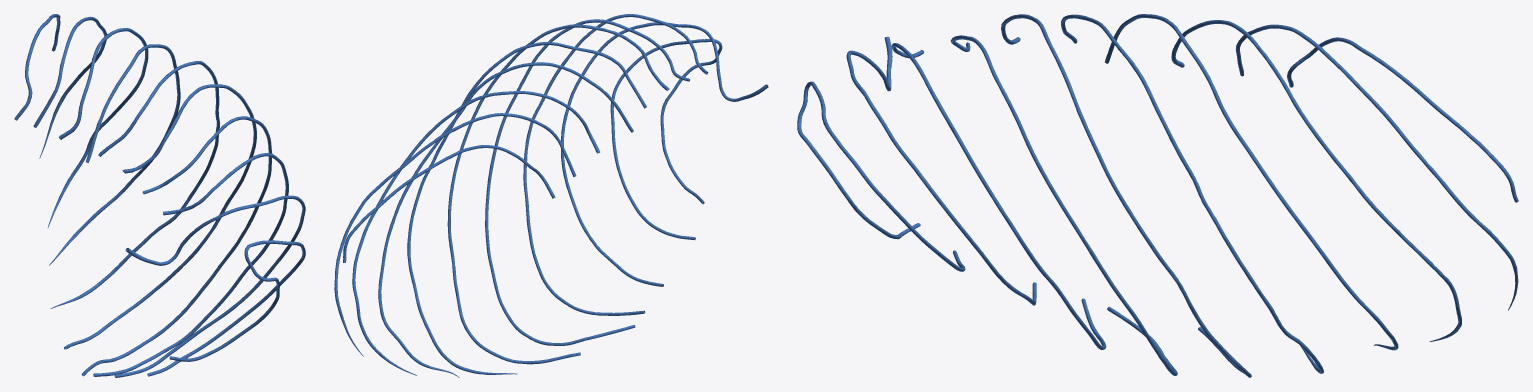
3 views of the same model, side by side, from view 1: azimuth 30°, elevation 25°; view 2: azimuth 150°, elevation 25°; view 3: azimuth 270°, elevation 25° (orthographic). The views are drawn at different scales.
Visible parts, largest first — view 1: 左肋间上静脉; view 2: 左肋间上静脉; view 3: 左肋间上静脉.
Part boxes in pixels (bbox=[...]): 左肋间上静脉: bbox=[14, 14, 305, 377]; 左肋间上静脉: bbox=[334, 14, 768, 377]; 左肋间上静脉: bbox=[797, 14, 1518, 377].
Size of the model in its own units: 0.2354 by 0.2893 by 0.5276.
